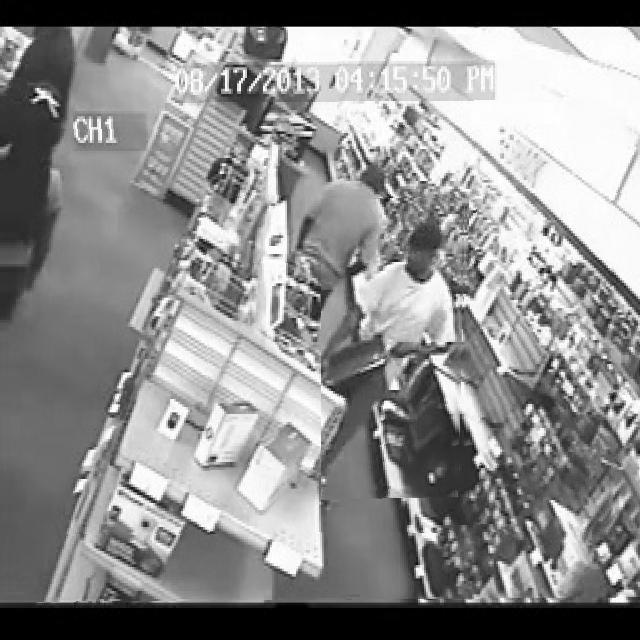Shoplifting: (321, 198, 465, 500)
normal: (0, 28, 640, 602)
